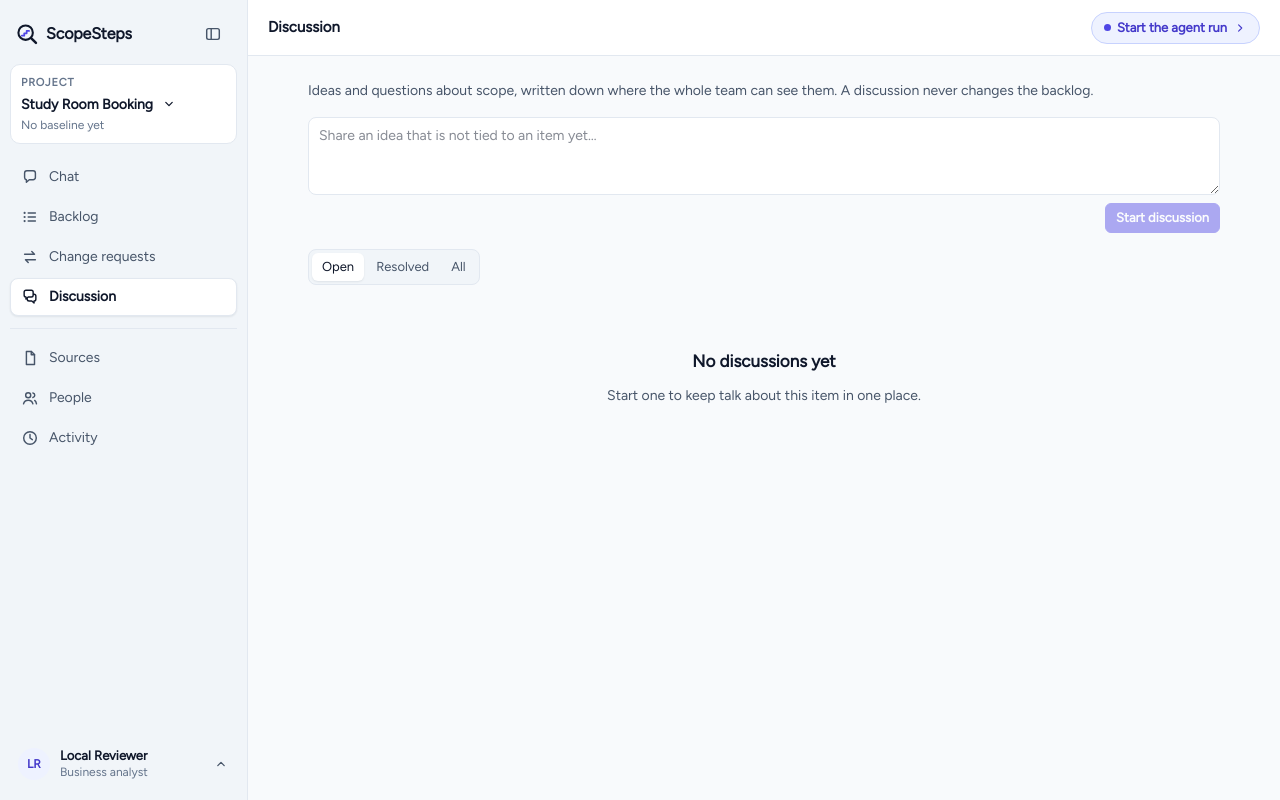
The Discussion page › shows the server’s refusal when a comment is too long
Type "Long" into the text box named "Start a General discussion".
click(764, 156); type("Long")  # box [308,117,1220,195]
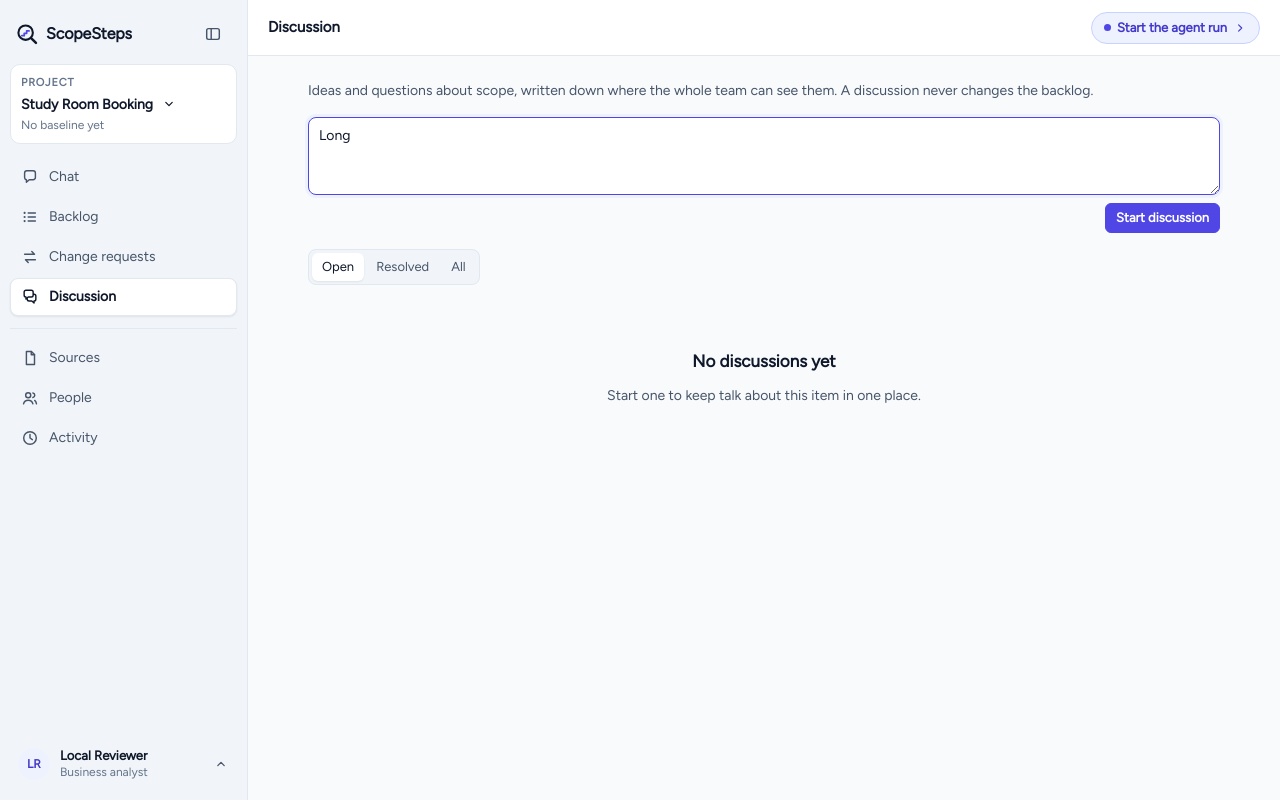
Click the button "Start discussion".
click(1163, 218)  # box [1105,203,1220,233]
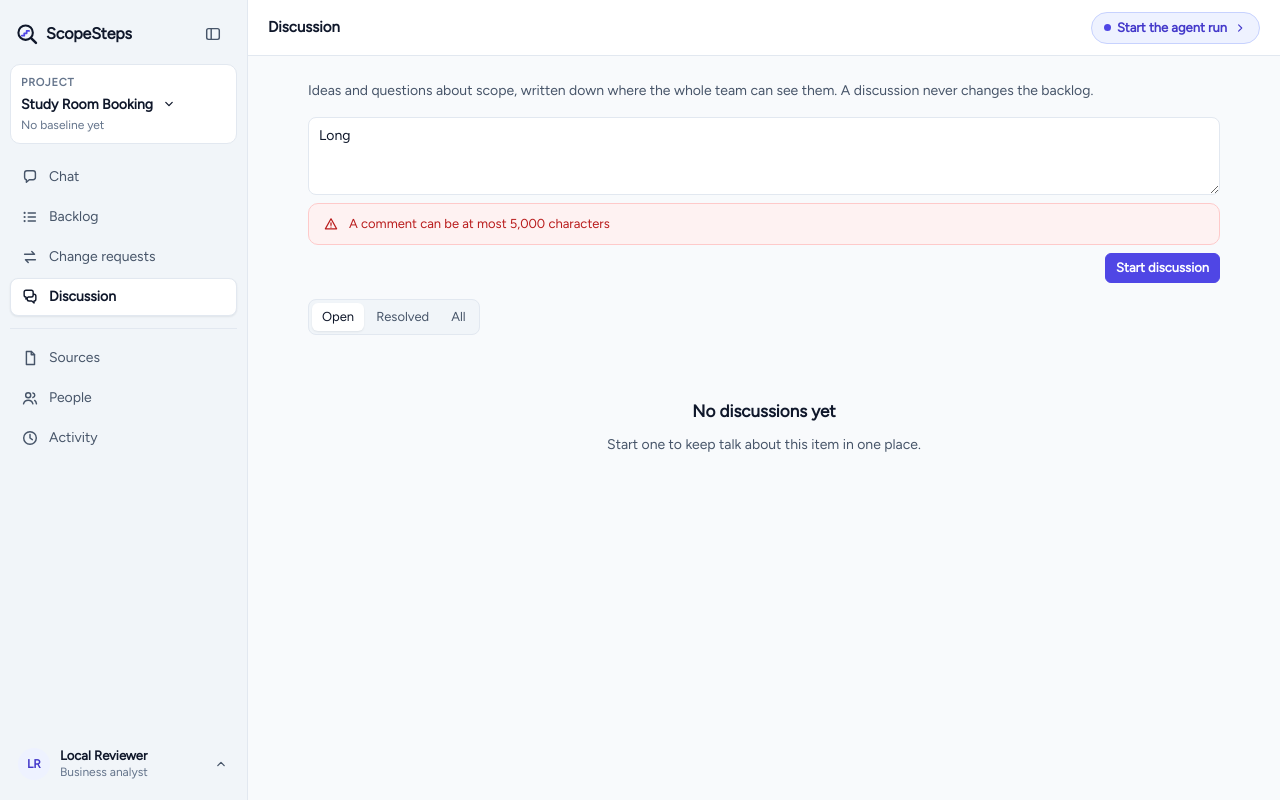
expect the message reads "A comment can be at most 5,000 characters": met, box [349,216,610,231]
